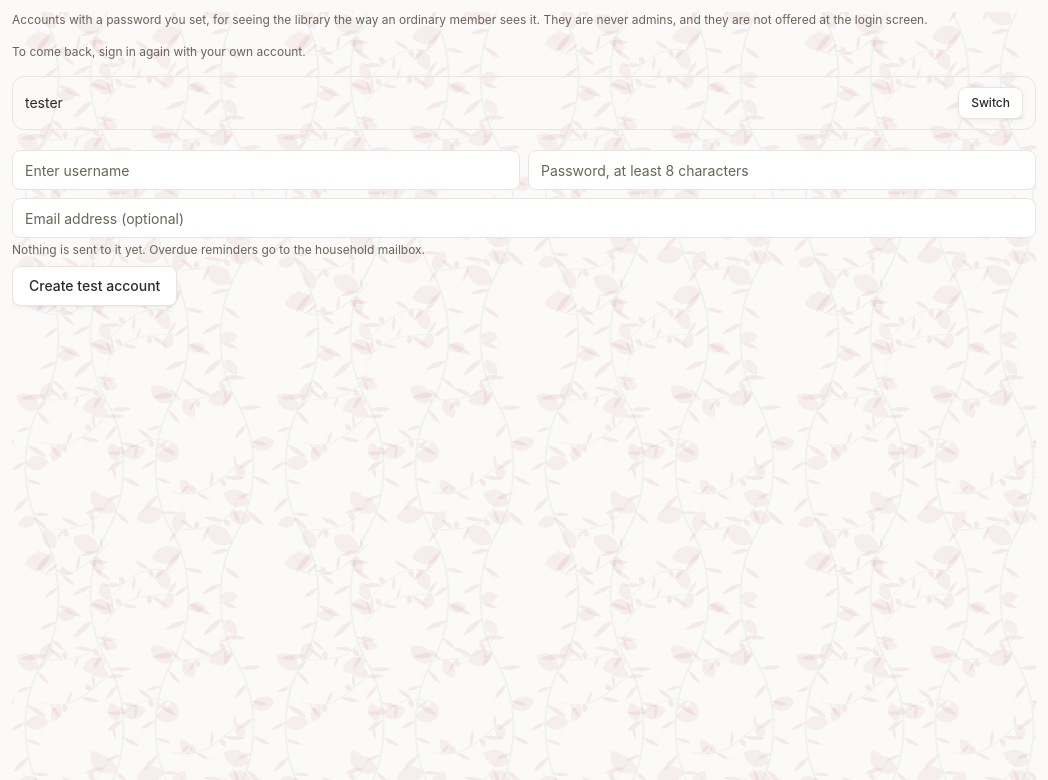
Scenario: TestAccounts › asks for the password before switching
Click the button with aria-label "Switch to tester" at x=991, y=103, box [958,87,1023,119]
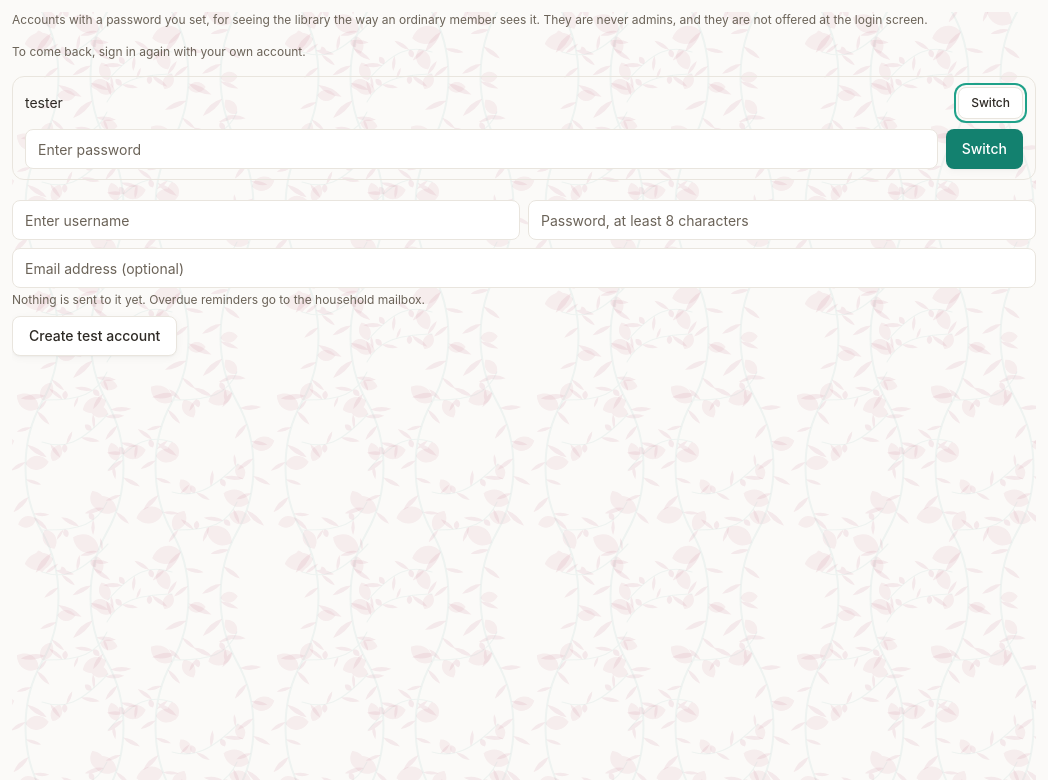
Check: the password field named "Password for tester" is shown, box [25,129,938,169]
